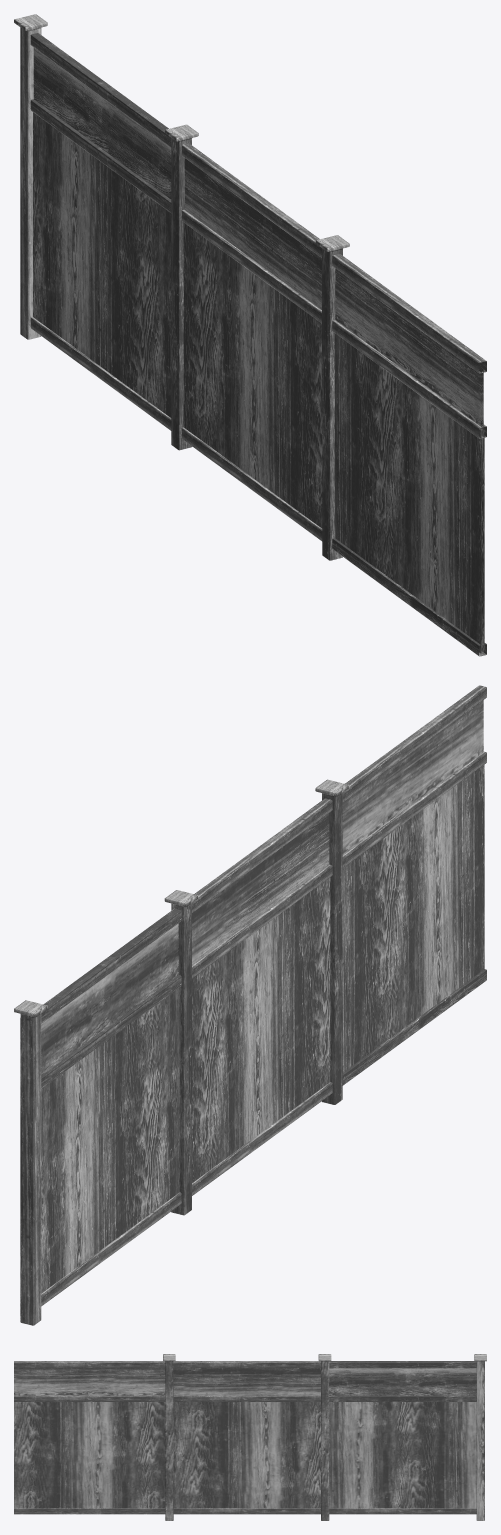
The model's file is SM_OutsideFence_B_600.fbx.
3 renders of one model, top to bottom at view 1: azimuth 30°, elevation 25°; view 2: azimuth 150°, elevation 25°; view 3: azimuth 270°, elevation 25°, orthographic. The views are drawn at different scales.
Visible parts, largest first — view 1: SM_OutsideFence_B_600; view 2: SM_OutsideFence_B_600; view 3: SM_OutsideFence_B_600.
Part boxes in pixels (left/top/right/bottom): SM_OutsideFence_B_600: left=14, top=14, right=486, bottom=656; SM_OutsideFence_B_600: left=14, top=685, right=486, bottom=1325; SM_OutsideFence_B_600: left=14, top=1354, right=486, bottom=1520.
Size of the model in its own units: 17.2 by 608 by 230.
3 materials, 3 textured.
